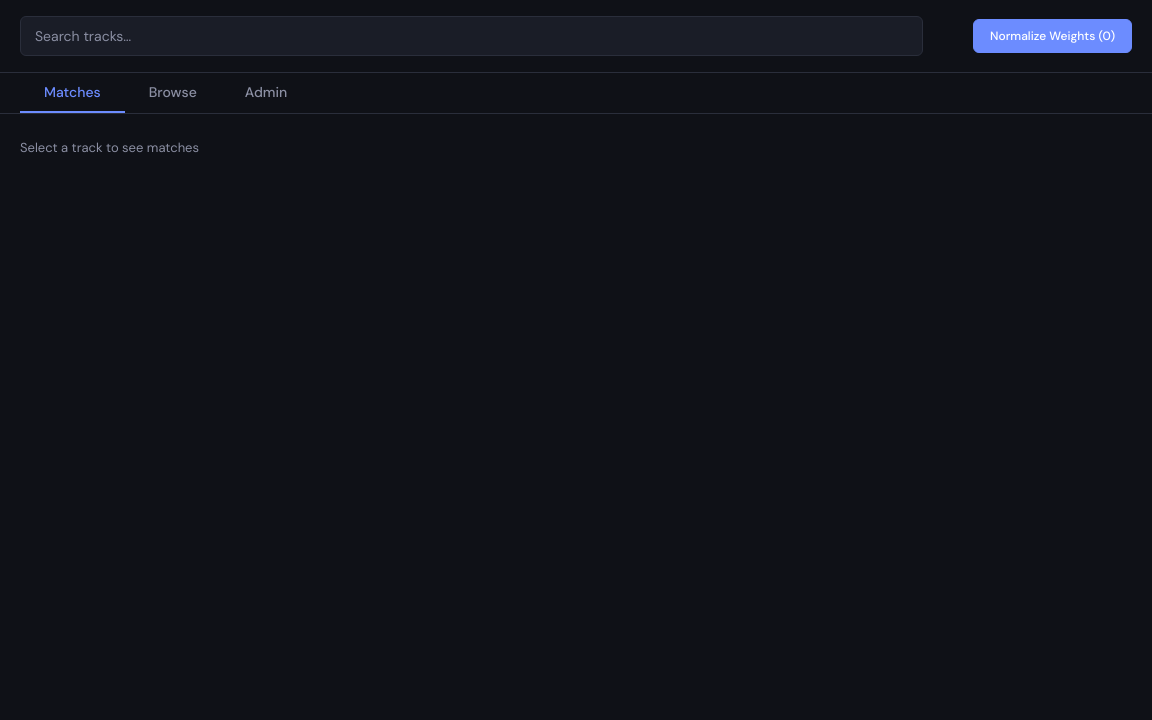
it: Browse infinite scroll › shows sentinel when more pages are available
Click the button "Browse": click(173, 93) [125,73,221,113]
(page scrolled)
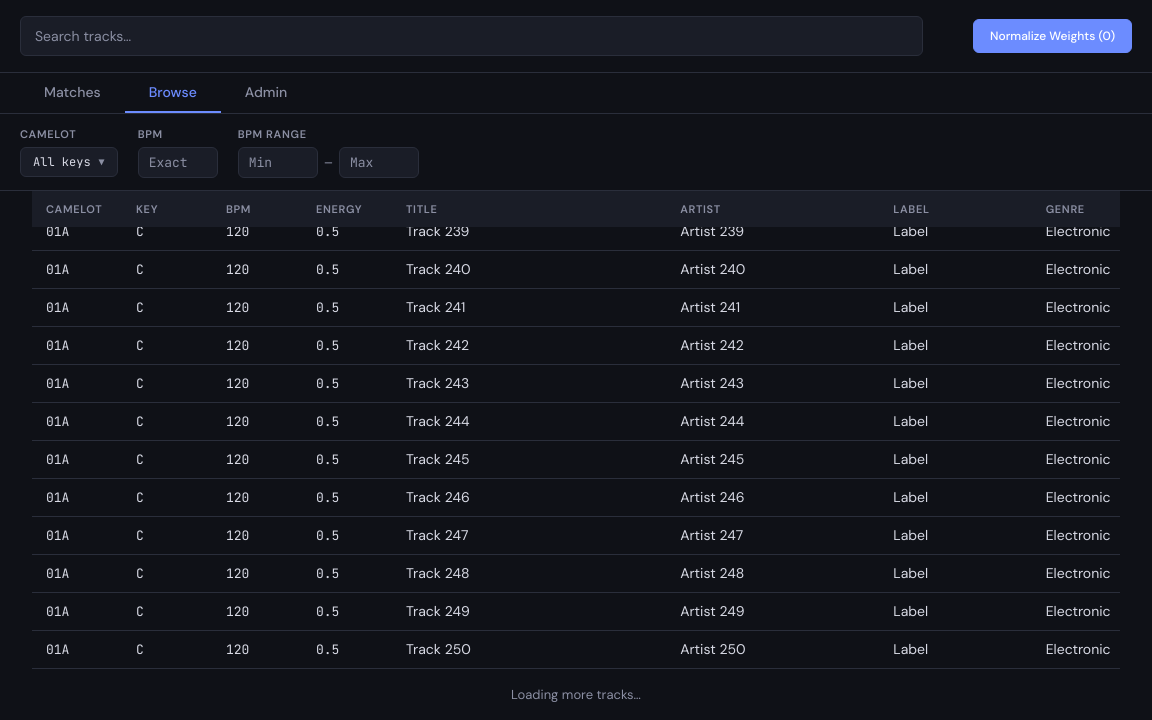
Check: the text "Loading more tracks…" is shown, box [511,686,641,703]
